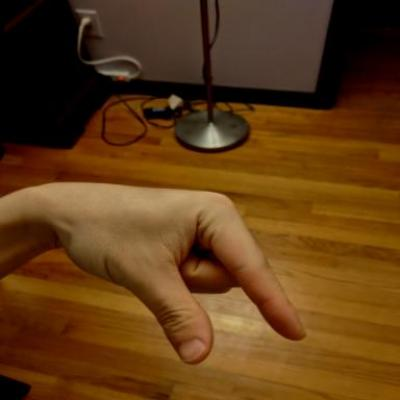hand: (44, 178, 313, 370)
